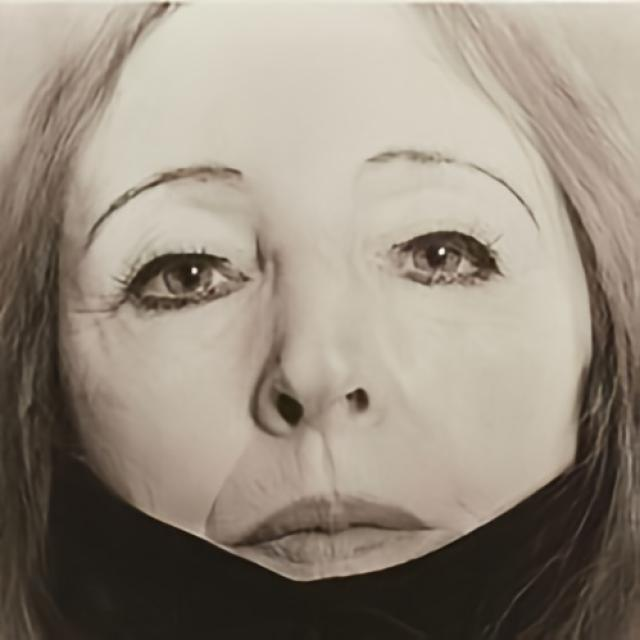neutral: (61, 0, 594, 582)
